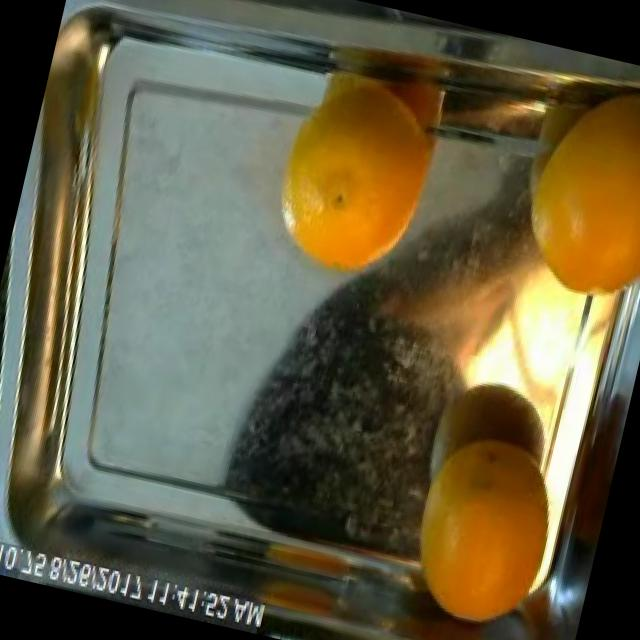Fruit: (244, 74, 446, 306), (304, 364, 464, 574)
